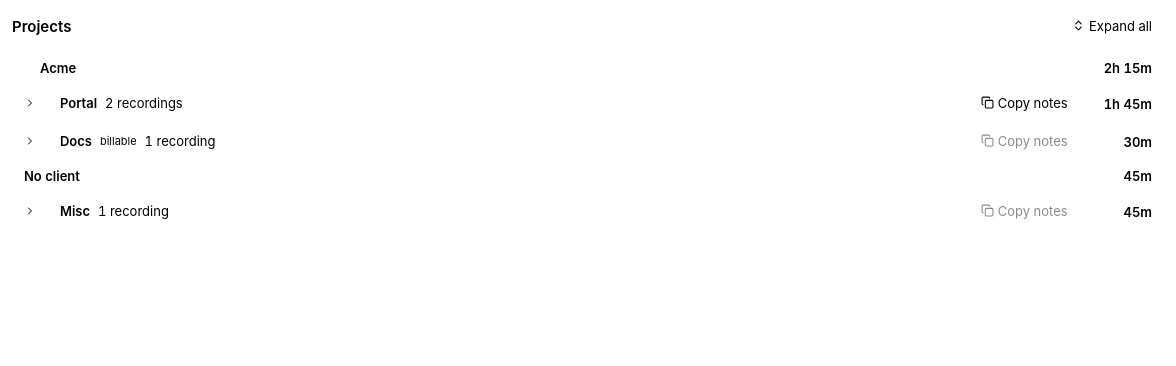
it: ReportTable › Expand all › unfolds every project and turns into Collapse all, which folds them again
Step 1. Click the button "Expand all" → coordinates (1112, 26), box [1060, 15, 1164, 37]
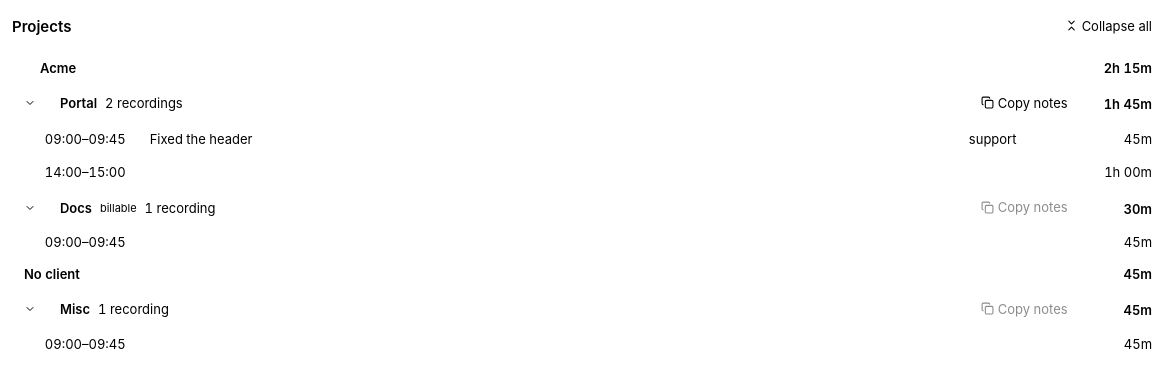
Step 2. Click the button "Collapse all" → coordinates (1108, 26), box [1053, 15, 1164, 37]
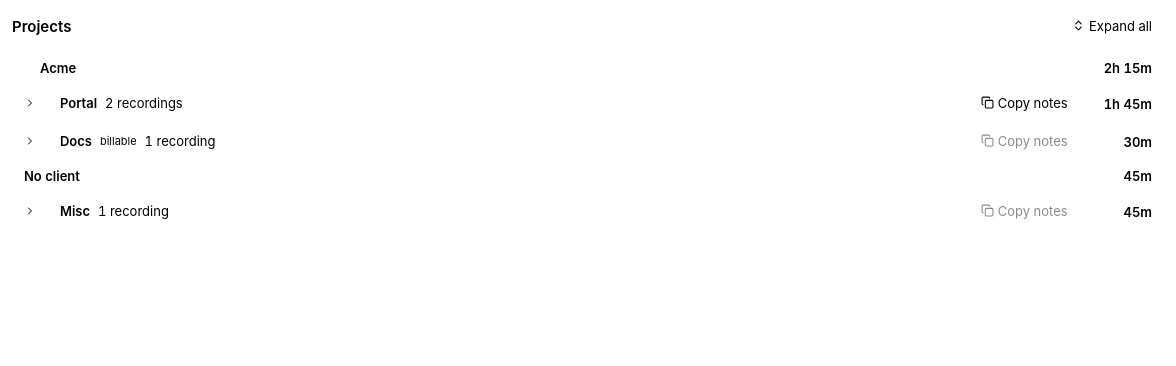
Result: the button "Expand all" is shown at [1060, 15, 1164, 37]
